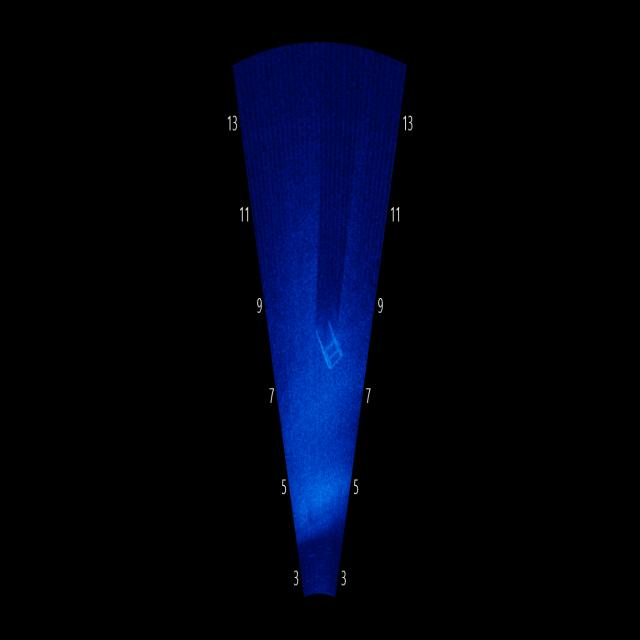square: (310, 305, 350, 394)
